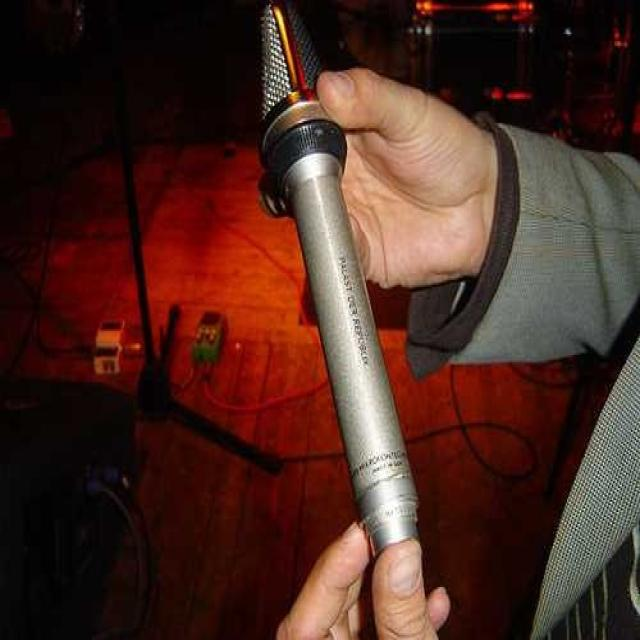microphone: (247, 6, 431, 572)
